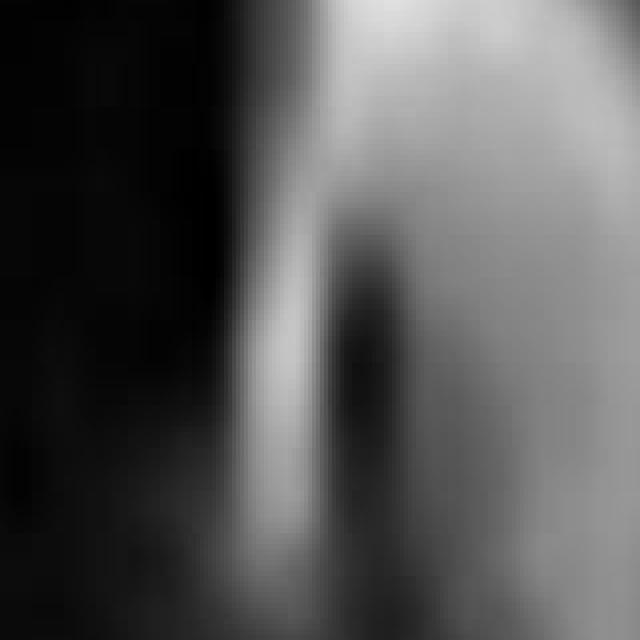person: (229, 1, 640, 640)
